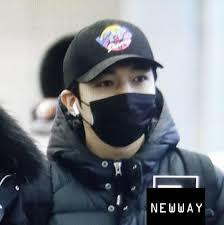earphone: (69, 100, 82, 116)
